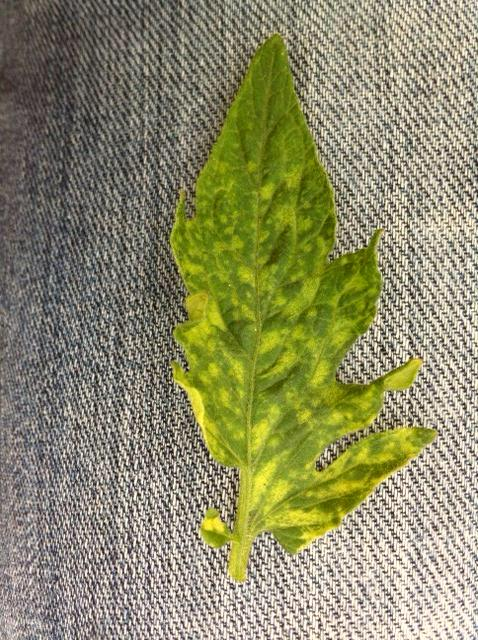Tomato leaf mosaic virus: (160, 24, 442, 599)
